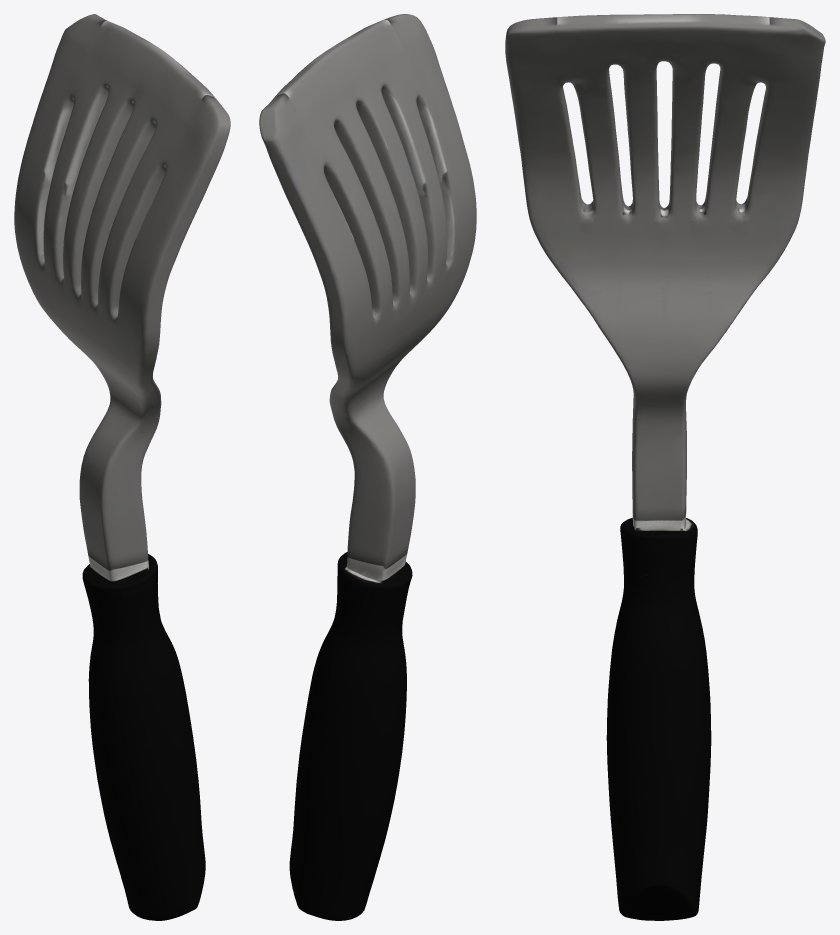
The model's file is spatula.glb.
3 renders of one model, left to right at view 1: azimuth 30°, elevation 25°; view 2: azimuth 150°, elevation 25°; view 3: azimuth 270°, elevation 25°, orthographic. The views are drawn at different scales.
Parts seen in each view (by area): view 1: tripo_node_be0a62f7-b7b1-4dcd-aca9-6583ecf12a4b; view 2: tripo_node_be0a62f7-b7b1-4dcd-aca9-6583ecf12a4b; view 3: tripo_node_be0a62f7-b7b1-4dcd-aca9-6583ecf12a4b.
Part boxes in pixels (left/top/right/bottom): tripo_node_be0a62f7-b7b1-4dcd-aca9-6583ecf12a4b: left=14, top=14, right=230, bottom=920; tripo_node_be0a62f7-b7b1-4dcd-aca9-6583ecf12a4b: left=259, top=14, right=476, bottom=920; tripo_node_be0a62f7-b7b1-4dcd-aca9-6583ecf12a4b: left=505, top=14, right=825, bottom=920.
Bounding box in the file's own units: 0.149 × 1 × 0.3207.
Materials: 1 (1 with a texture image).
